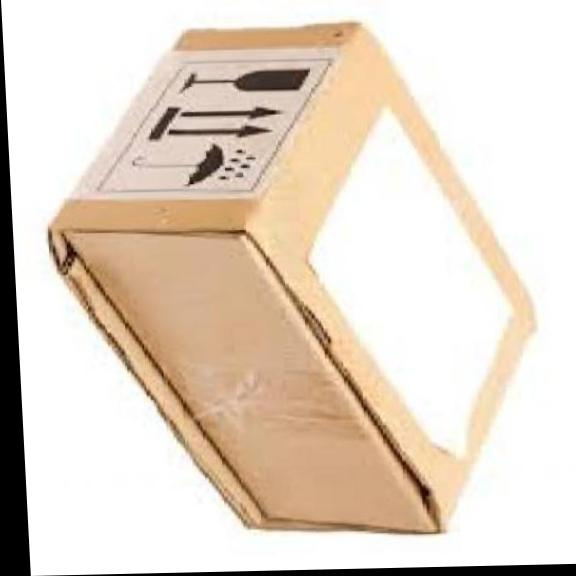Kertas: (49, 23, 534, 534)
